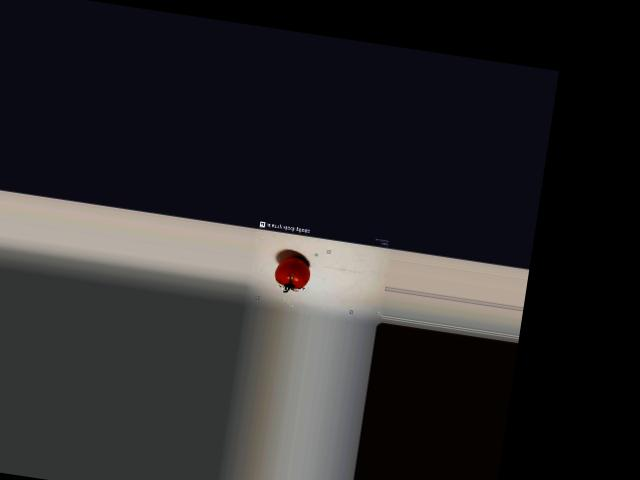tomato: (274, 254, 312, 289)
